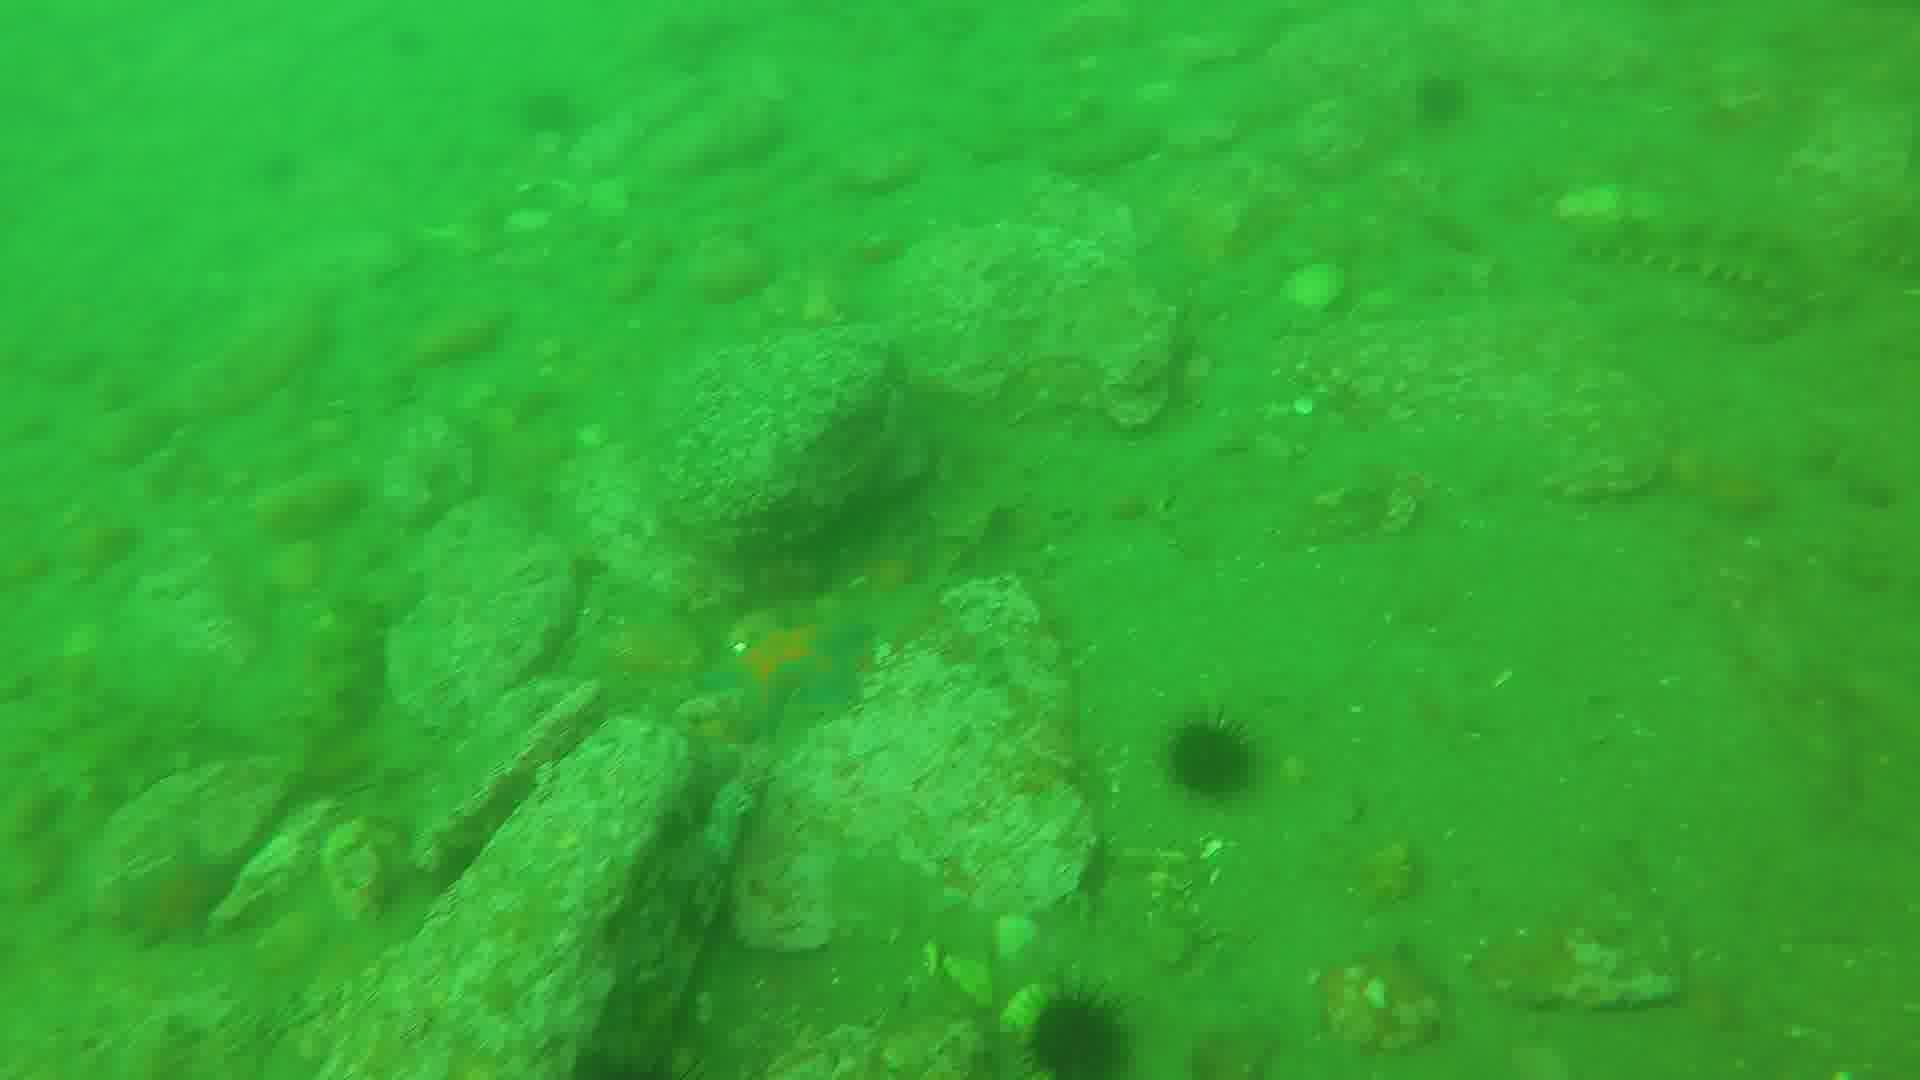echinus: (1036, 985, 1127, 1080), (1168, 721, 1249, 800), (1414, 76, 1478, 135), (522, 94, 578, 131)
holothurian: (1585, 200, 1820, 305)
starfish: (709, 609, 876, 748)
